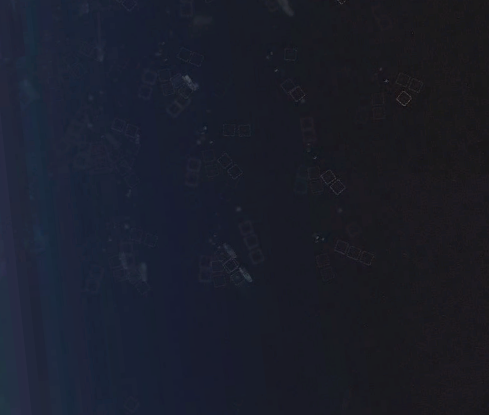square: (216, 150, 240, 172), (227, 159, 249, 182), (175, 41, 196, 63), (237, 218, 258, 239), (182, 164, 201, 187), (249, 242, 269, 263), (218, 120, 239, 140), (333, 236, 352, 257), (303, 123, 322, 144), (320, 168, 340, 187), (188, 50, 208, 69), (162, 98, 182, 117), (287, 83, 309, 100), (233, 123, 255, 140), (180, 155, 201, 172), (345, 245, 363, 264), (244, 231, 262, 250), (396, 90, 416, 107), (358, 250, 375, 270), (173, 90, 191, 108), (299, 112, 316, 131), (140, 67, 159, 84), (330, 179, 347, 197), (155, 62, 171, 81), (406, 74, 423, 91), (282, 46, 301, 61), (396, 70, 412, 87)
